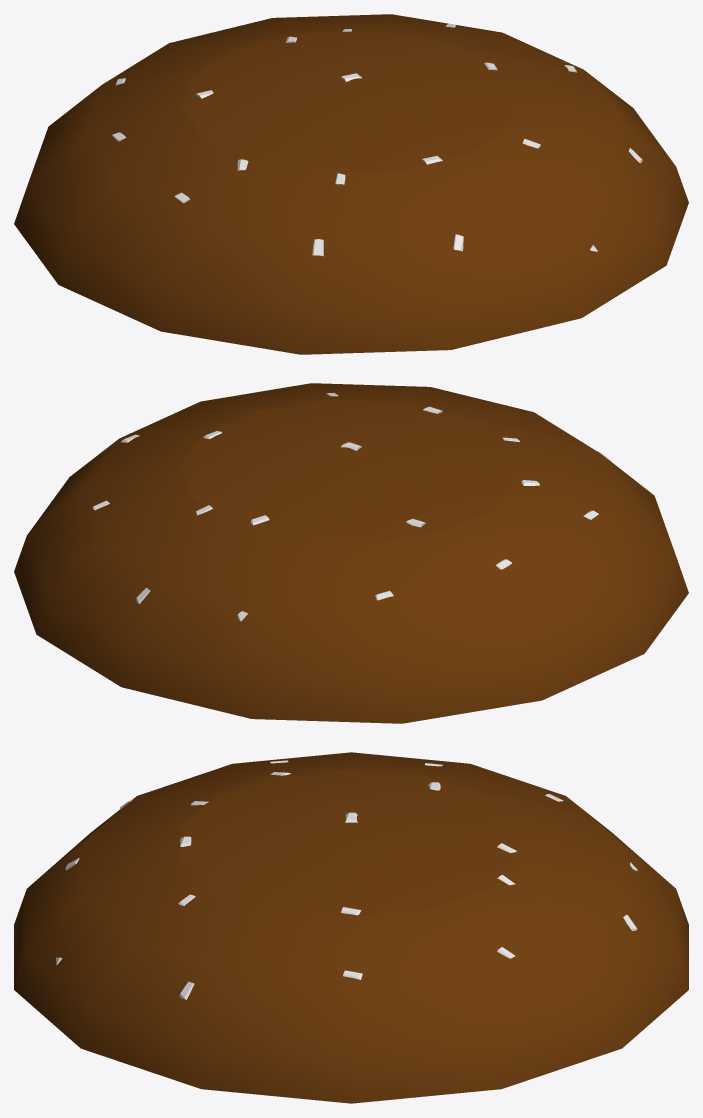
The model's file is hamburgerbread.fbx.
3 renders of one model, top to bottom at view 1: azimuth 30°, elevation 25°; view 2: azimuth 150°, elevation 25°; view 3: azimuth 270°, elevation 25°, orthographic. The views are drawn at different scales.
Parts seen in each view (by area): view 1: hamburgerbread; view 2: hamburgerbread; view 3: hamburgerbread.
Part boxes in pixels (x1,y1,x2,y2): hamburgerbread: (14, 14, 688, 354); hamburgerbread: (14, 383, 688, 723); hamburgerbread: (14, 752, 688, 1103).
Size of the model in its own units: 34.14 by 7.65 by 33.28.
